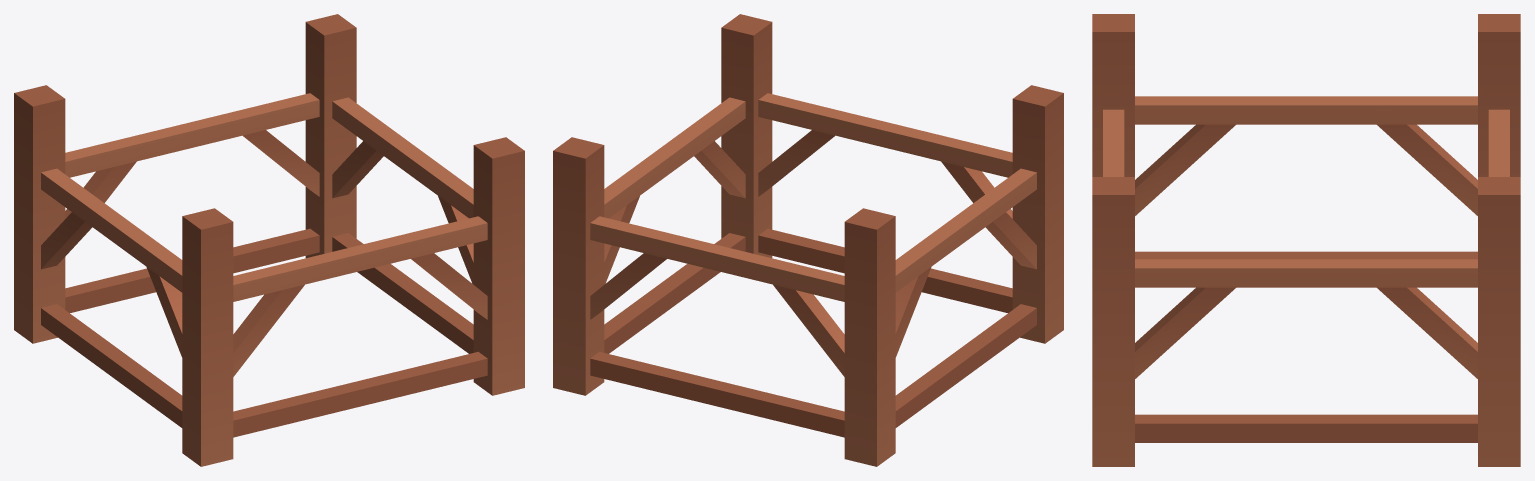
File: climb-frame.glb
3 views of the same model, side by side, from view 1: azimuth 30°, elevation 25°; view 2: azimuth 150°, elevation 25°; view 3: azimuth 270°, elevation 25° (orthographic). The views are drawn at different scales.
Parts seen in each view (by area): view 1: structure-wood; view 2: structure-wood; view 3: structure-wood.
Boxes of the visible parts, left/top/right/bottom form: structure-wood: left=14, top=14, right=524, bottom=466; structure-wood: left=553, top=14, right=1063, bottom=466; structure-wood: left=1092, top=14, right=1520, bottom=466.
Size of the model in its own units: 1 by 0.7 by 1.
